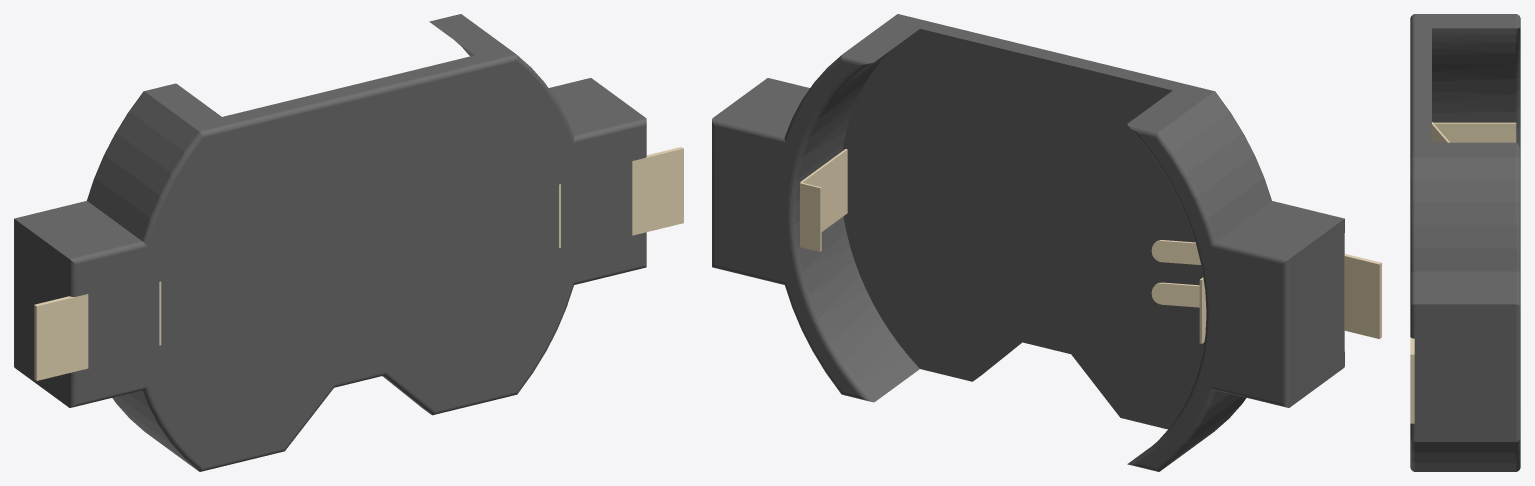
Rendered from BatteryHolder_Keystone_1058_1x2032.glb.
The picture shows the model from 3 angles, left to right: view 1: azimuth 30°, elevation 25°; view 2: azimuth 150°, elevation 25°; view 3: azimuth 270°, elevation 25°; orthographic projection. The views are drawn at different scales.
Visible parts, largest first — view 1: Shape_IndexedFaceSet.011, Shape_IndexedFaceSet.042, Shape_IndexedFaceSet.018, Shape_IndexedFaceSet.057, Shape_IndexedFaceSet.047, Shape_IndexedFaceSet.058, Shape_IndexedFaceSet.001, Shape_IndexedFaceSet.039, Shape_IndexedFaceSet.026, Shape_IndexedFaceSet.052, Shape_IndexedFaceSet.025, Shape_IndexedFaceSet.027 (+2 smaller); view 2: Shape_IndexedFaceSet.045, Shape_IndexedFaceSet.008, Shape_IndexedFaceSet.060, Shape_IndexedFaceSet.046, Shape_IndexedFaceSet.042, Shape_IndexedFaceSet.057, Shape_IndexedFaceSet.018, Shape_IndexedFaceSet.047, Shape_IndexedFaceSet.001, Shape_IndexedFaceSet.020, Shape_IndexedFaceSet.055, Shape_IndexedFaceSet.076 (+7 smaller); view 3: Shape_IndexedFaceSet, Shape_IndexedFaceSet.007, Shape_IndexedFaceSet.044, Shape_IndexedFaceSet.018, Shape_IndexedFaceSet.001, Shape_IndexedFaceSet.015, Shape_IndexedFaceSet.069, Shape_IndexedFaceSet.026, Shape_IndexedFaceSet.002, Shape_IndexedFaceSet.016, Shape_IndexedFaceSet.017, Shape_IndexedFaceSet.061 (+8 smaller).
Part boxes in pixels (bbox=[...]): Shape_IndexedFaceSet.011: bbox=[76, 61, 644, 468]; Shape_IndexedFaceSet.042: bbox=[88, 92, 198, 240]; Shape_IndexedFaceSet.018: bbox=[145, 14, 515, 131]; Shape_IndexedFaceSet.057: bbox=[14, 219, 68, 407]; Shape_IndexedFaceSet.047: bbox=[15, 201, 141, 258]; Shape_IndexedFaceSet.058: bbox=[36, 297, 76, 380]; Shape_IndexedFaceSet.001: bbox=[549, 78, 645, 135]; Shape_IndexedFaceSet.039: bbox=[644, 148, 683, 232]; Shape_IndexedFaceSet.026: bbox=[199, 54, 517, 137]; Shape_IndexedFaceSet.052: bbox=[112, 390, 197, 470]; Shape_IndexedFaceSet.025: bbox=[142, 131, 203, 246]; Shape_IndexedFaceSet.027: bbox=[632, 158, 644, 235]; Shape_IndexedFaceSet.045: bbox=[842, 29, 1204, 429]; Shape_IndexedFaceSet.008: bbox=[714, 61, 859, 395]; Shape_IndexedFaceSet.060: bbox=[1138, 133, 1282, 468]; Shape_IndexedFaceSet.046: bbox=[795, 49, 919, 401]; Shape_IndexedFaceSet.042: bbox=[1160, 92, 1270, 240]; Shape_IndexedFaceSet.057: bbox=[1289, 219, 1343, 407]; Shape_IndexedFaceSet.018: bbox=[843, 14, 1213, 131]; Shape_IndexedFaceSet.047: bbox=[1217, 201, 1343, 258]; Shape_IndexedFaceSet.001: bbox=[713, 78, 809, 135]; Shape_IndexedFaceSet.020: bbox=[788, 62, 874, 402]; Shape_IndexedFaceSet.055: bbox=[1344, 256, 1379, 338]; Shape_IndexedFaceSet.076: bbox=[802, 149, 847, 231]; Shape_IndexedFaceSet: bbox=[1415, 304, 1515, 441]; Shape_IndexedFaceSet.007: bbox=[1415, 157, 1515, 271]; Shape_IndexedFaceSet.044: bbox=[1432, 28, 1515, 122]; Shape_IndexedFaceSet.018: bbox=[1415, 14, 1515, 157]; Shape_IndexedFaceSet.001: bbox=[1415, 271, 1515, 304]; Shape_IndexedFaceSet.015: bbox=[1415, 442, 1515, 471]; Shape_IndexedFaceSet.069: bbox=[1434, 123, 1516, 142]; Shape_IndexedFaceSet.026: bbox=[1410, 14, 1415, 159]; Shape_IndexedFaceSet.002: bbox=[1515, 304, 1520, 441]; Shape_IndexedFaceSet.016: bbox=[1515, 157, 1520, 273]; Shape_IndexedFaceSet.017: bbox=[1410, 157, 1415, 273]; Shape_IndexedFaceSet.061: bbox=[1515, 27, 1520, 148].
Size of the model in its own units: 12.54 by 6.3 by 2.
